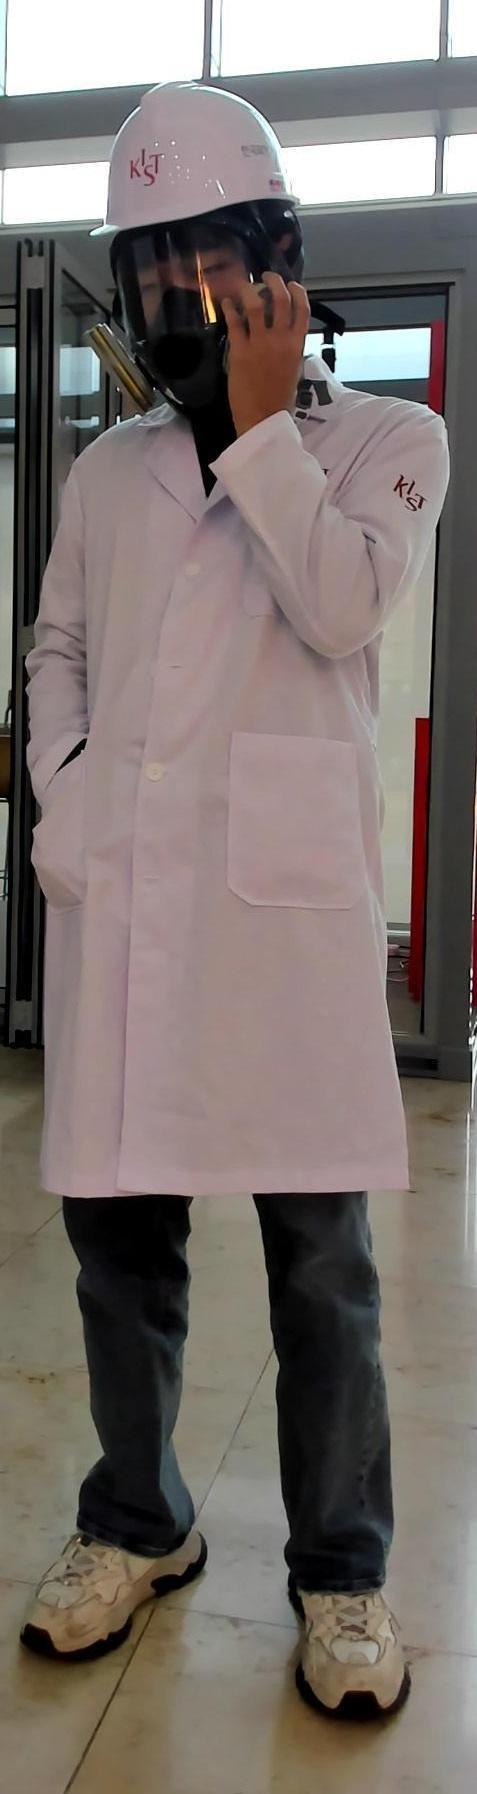lab_coat: (14, 418, 426, 1185)
